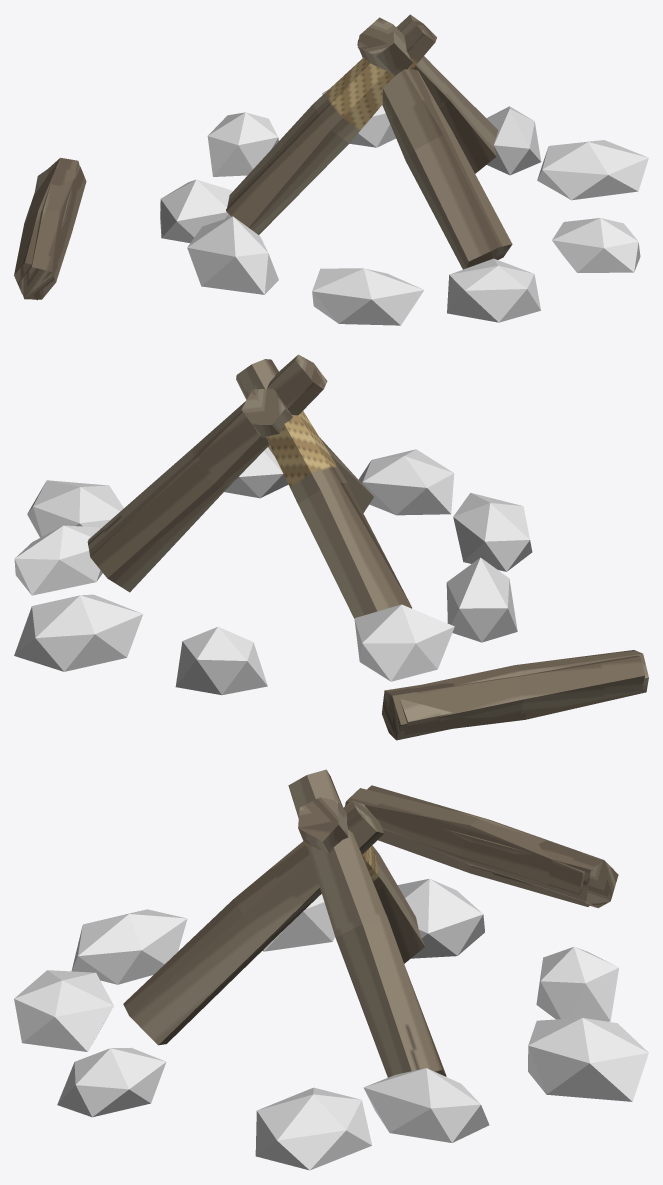
Rendered from campfire.fbx.
The picture shows the model from 3 angles, top to bottom: view 1: azimuth 30°, elevation 25°; view 2: azimuth 150°, elevation 25°; view 3: azimuth 270°, elevation 25°; orthographic projection. The views are drawn at different scales.
Visible parts, largest first — view 1: campfire; view 2: campfire; view 3: campfire.
Part boxes in pixels (x1=…): campfire: x1=14, y1=14, x2=648, y2=325; campfire: x1=14, y1=354, x2=648, y2=740; campfire: x1=14, y1=769, x2=648, y2=1170.
Bounding box in the file's own units: 169 × 57.81 × 129.
